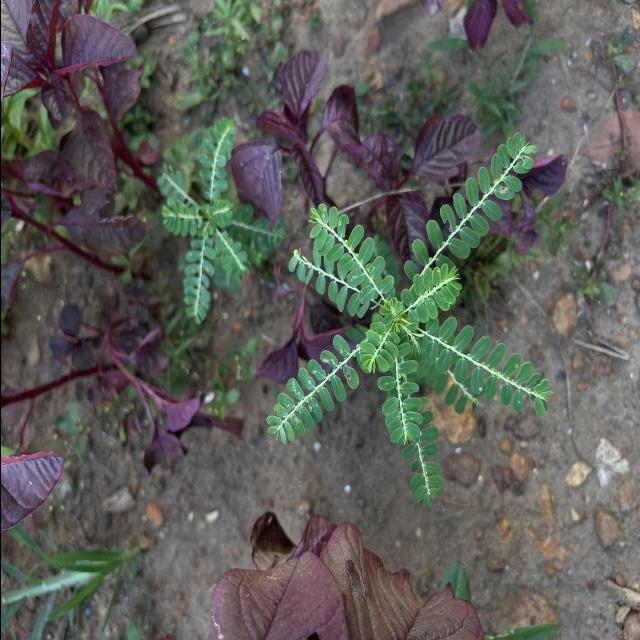Phyllanthus niruri: (401, 131, 537, 291), (426, 315, 553, 420), (264, 334, 358, 446), (305, 200, 394, 308), (374, 338, 424, 446), (400, 262, 463, 322), (358, 320, 399, 378)
